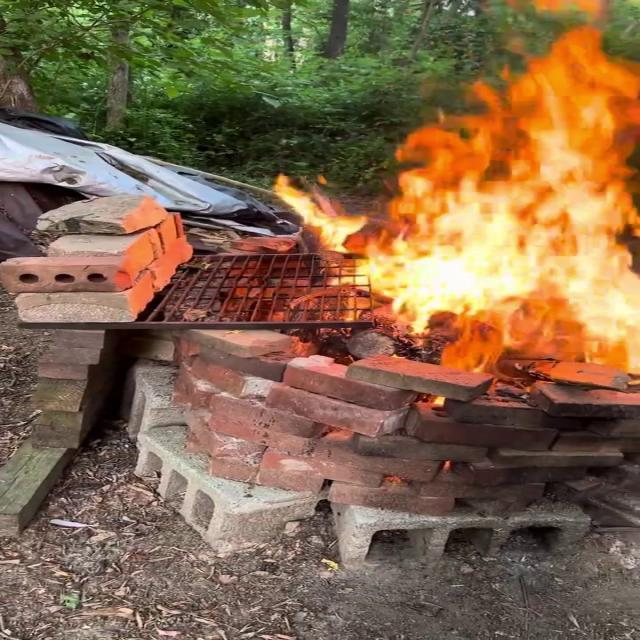Fire: (288, 0, 638, 376), (290, 0, 638, 374)
